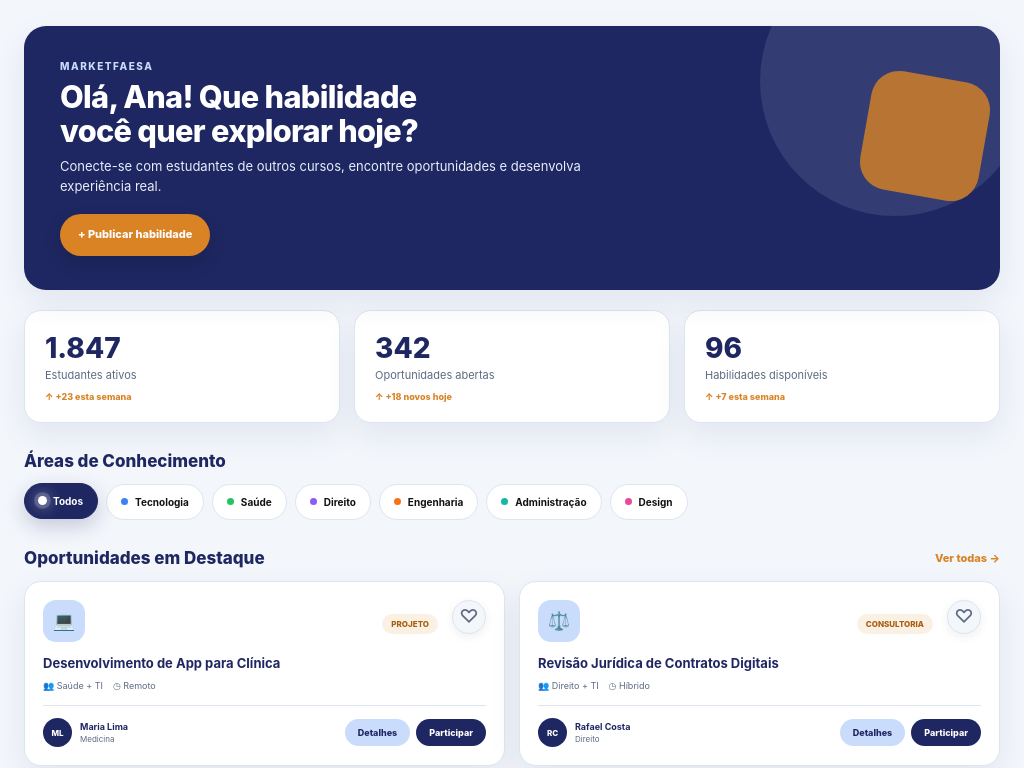
Test: Página inicial — persistência das oportunidades › não marca oportunidade como salva quando o armazenamento falha
Click the button named "Salvar oportunidade".
click(469, 617)  # box [452, 600, 486, 634]
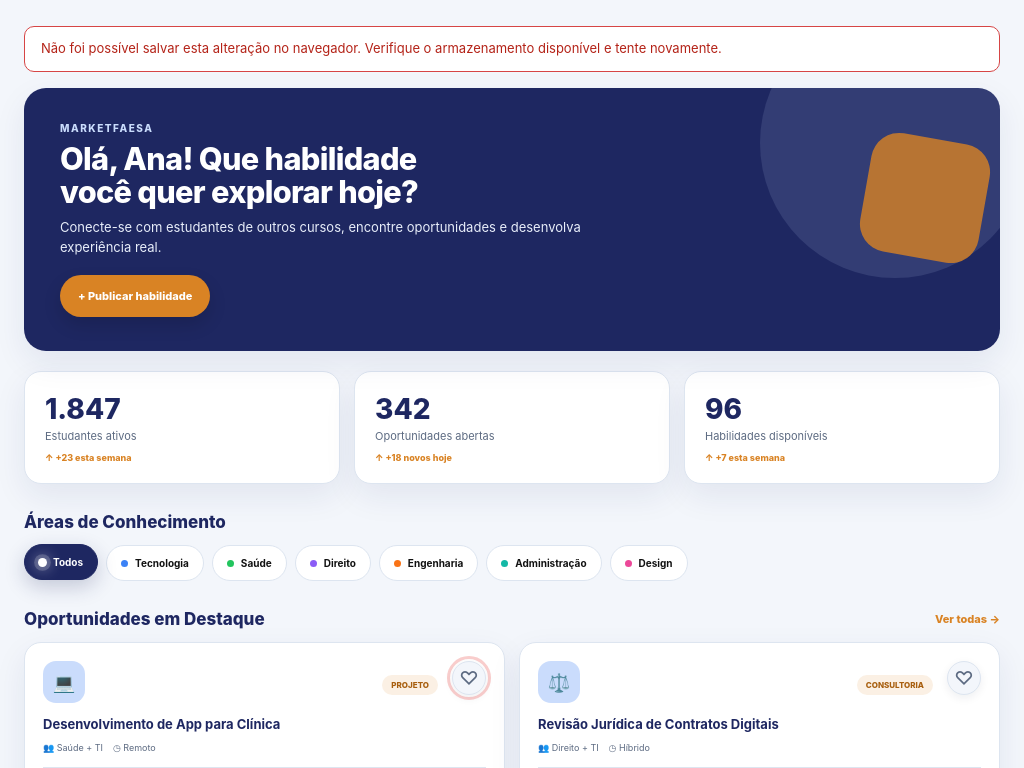
Result: the message shows "Não foi possível salvar esta alteração" at [41, 40, 722, 56]
